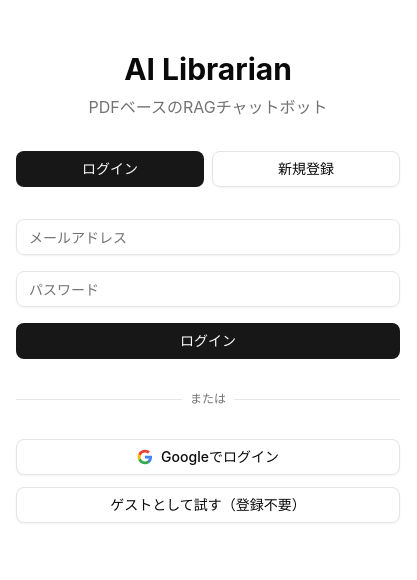
Test: LoginPage sign-up flow › 確認用パスワード不一致で signUp を呼ばない
This screenshot has width=417, height=580.
Step 1. Click the tab with test id "auth-mode-signup" → (306, 169), box x1=212 y1=151 x2=400 y2=187
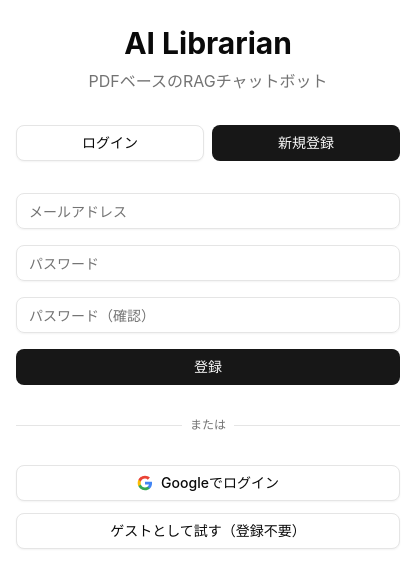
Step 2. Type "user@example.com" into the field with test id "email" → (208, 211), box x1=16 y1=193 x2=400 y2=229
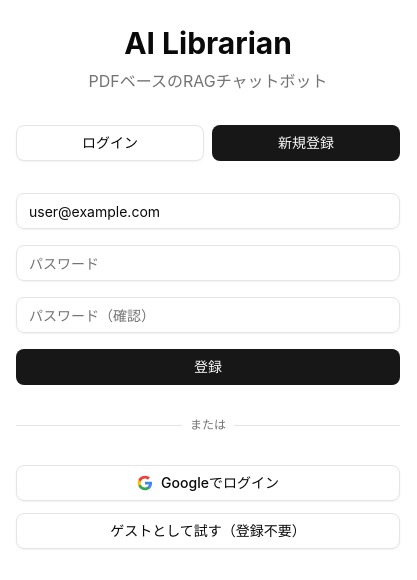
Step 3. Type "password123" into the password field with test id "password" → (208, 263), box x1=16 y1=245 x2=400 y2=281
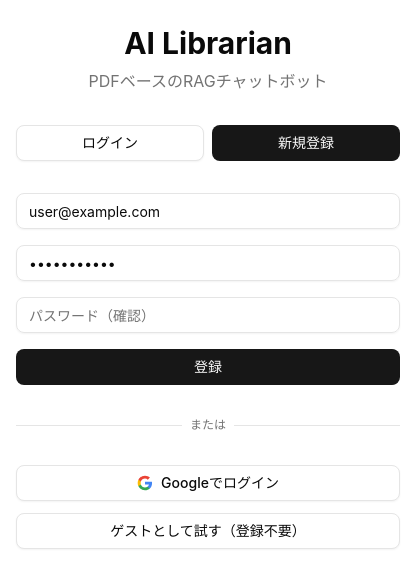
Step 4. Type "password999" into the password field with test id "password-confirm" → (208, 315), box x1=16 y1=297 x2=400 y2=333
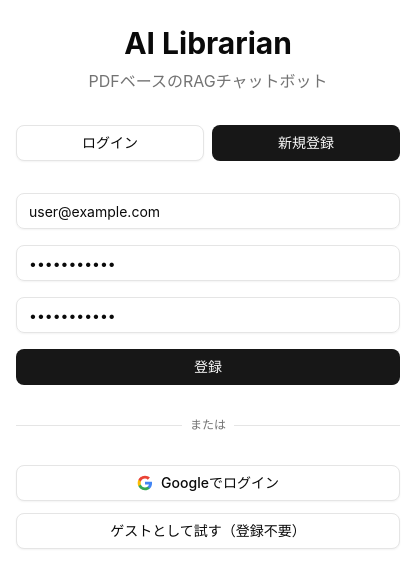
Step 5. Click the button with test id "auth-submit" → (208, 367), box x1=16 y1=349 x2=400 y2=385
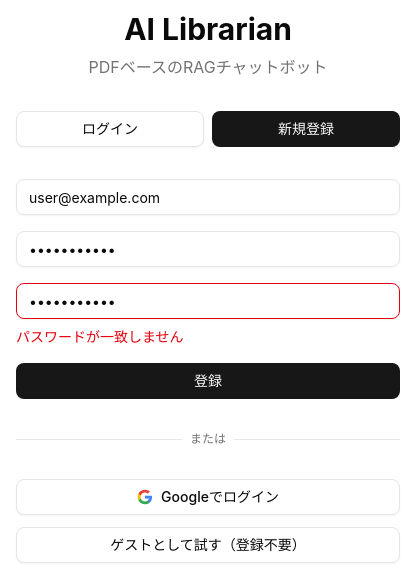
Check: the text "パスワードが一致しません" is shown, box x1=16 y1=328 x2=184 y2=345
